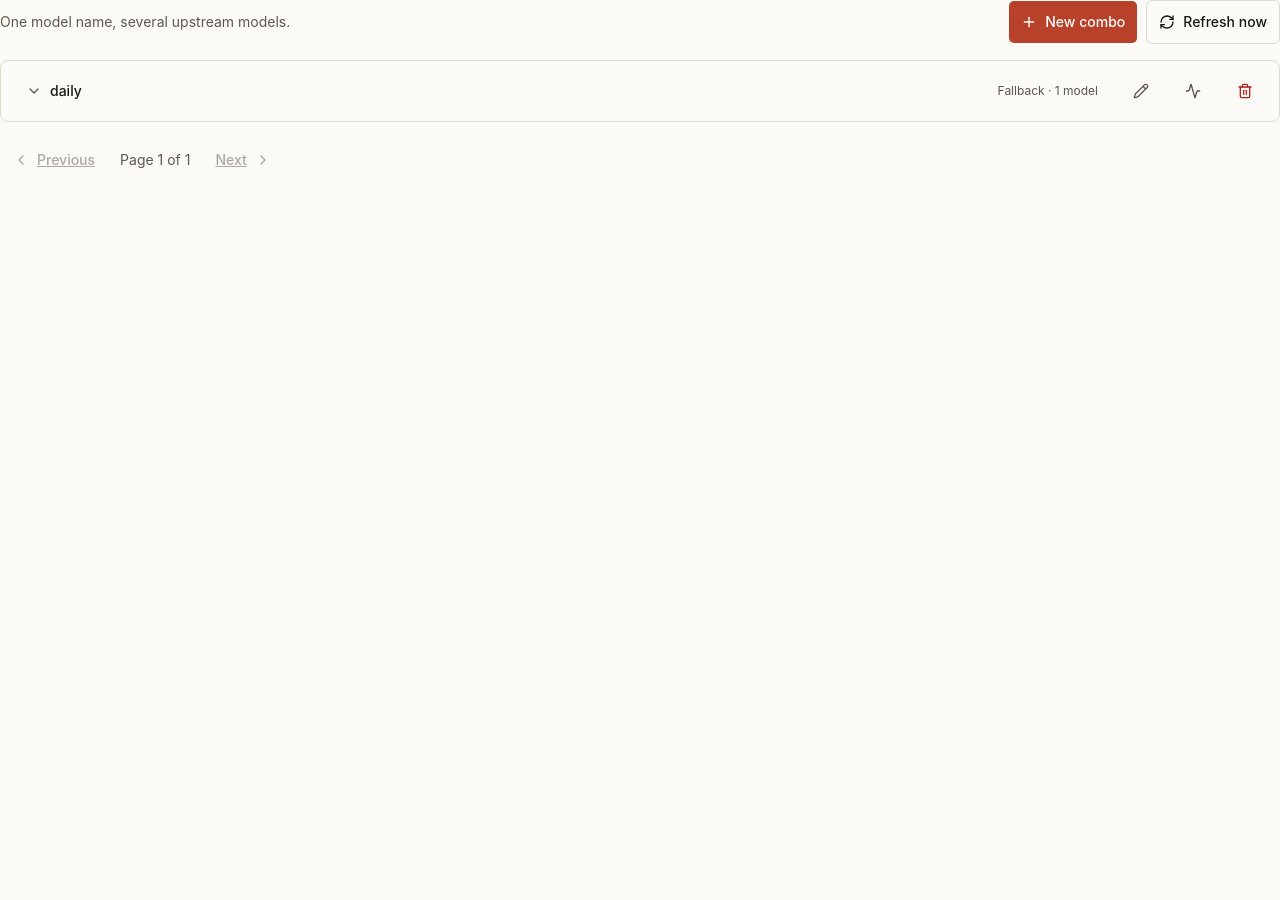
Test: deleting a combo › names the alias that still references it, and points at no screen
Click the button named "Delete" at (1245, 91), box [1223,69,1267,113]
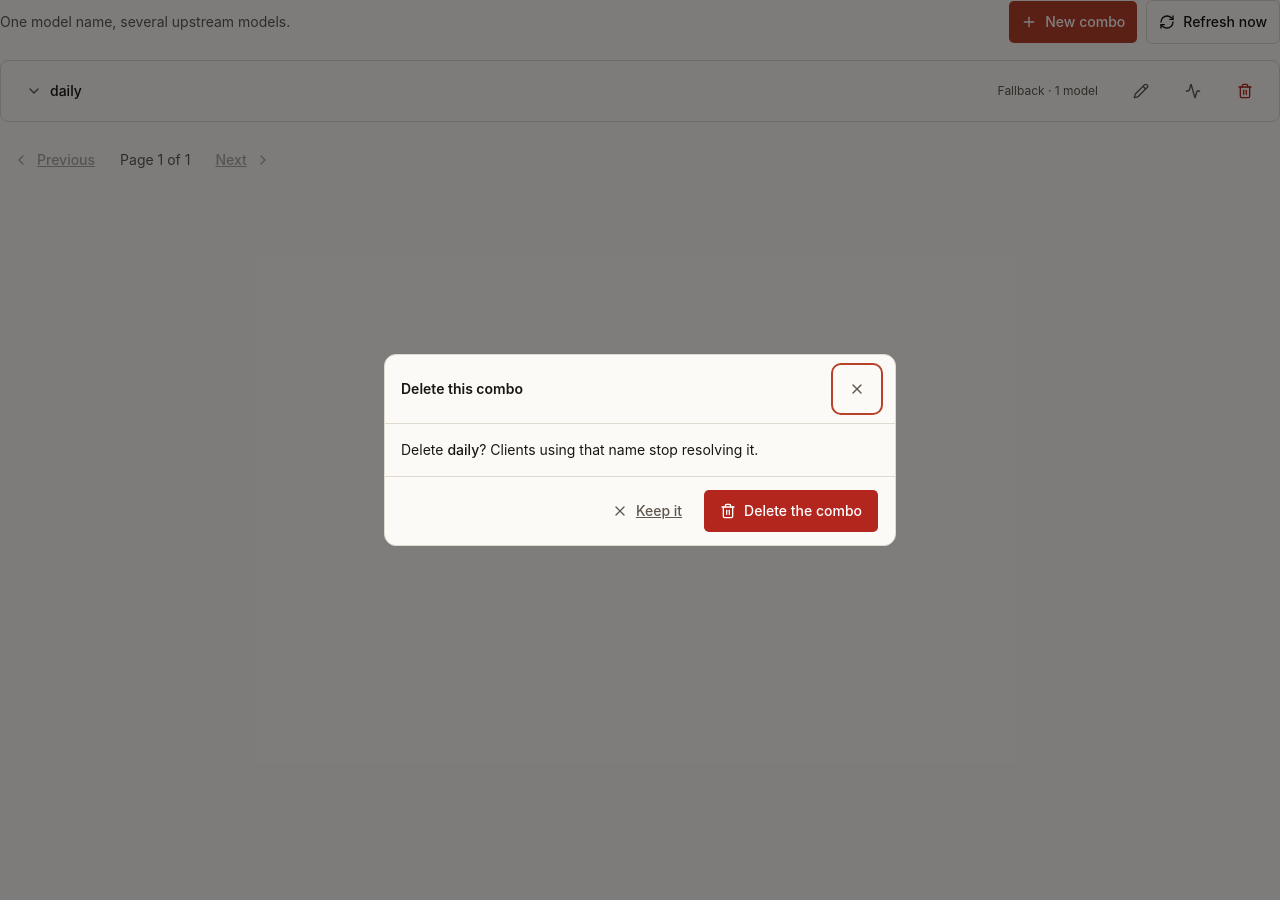
Click the button "Delete the combo" at (791, 511), box [703,489,879,533]
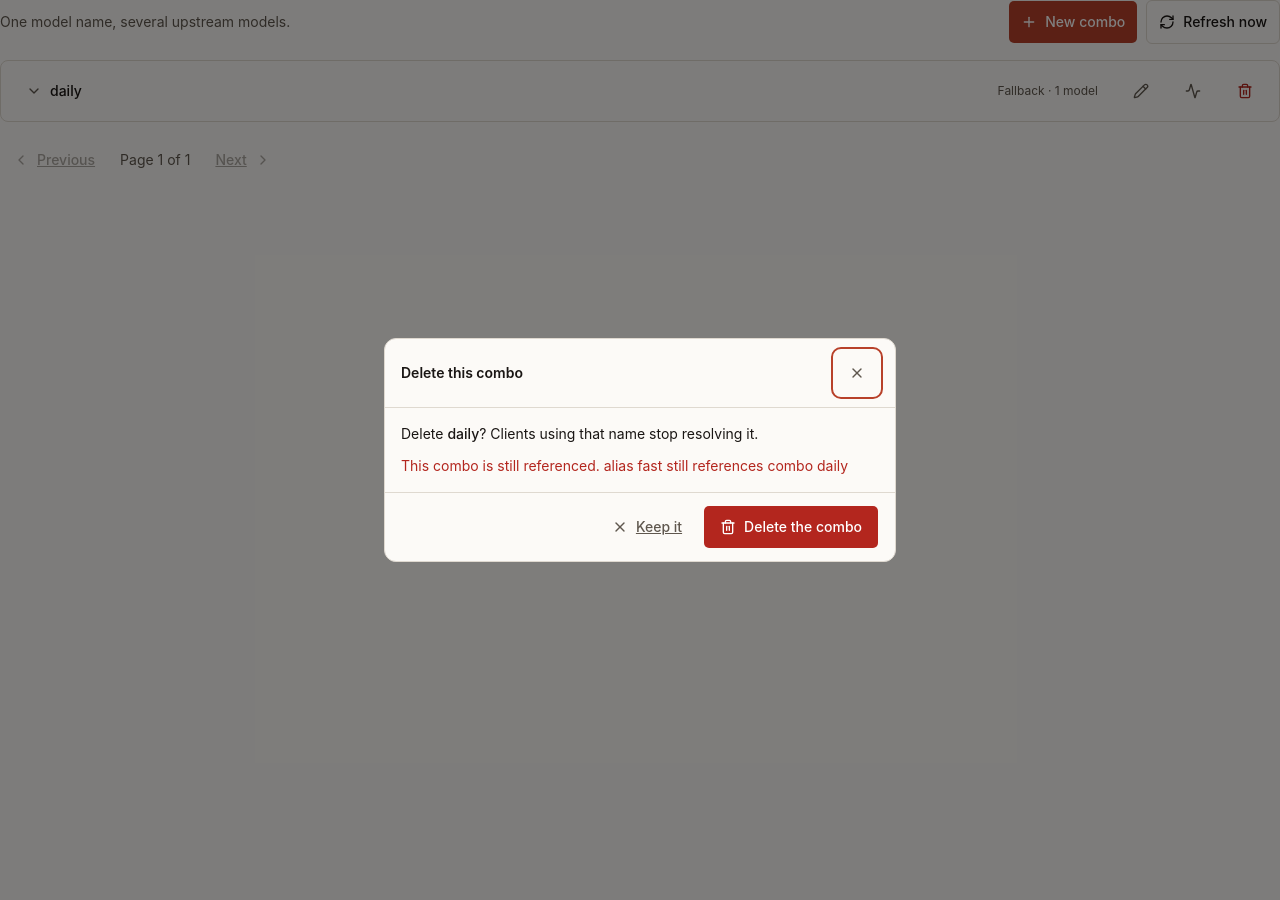
Check: the text "alias fast still references combo daily" shows "This combo is still referenced", box [401,457,848,474]
